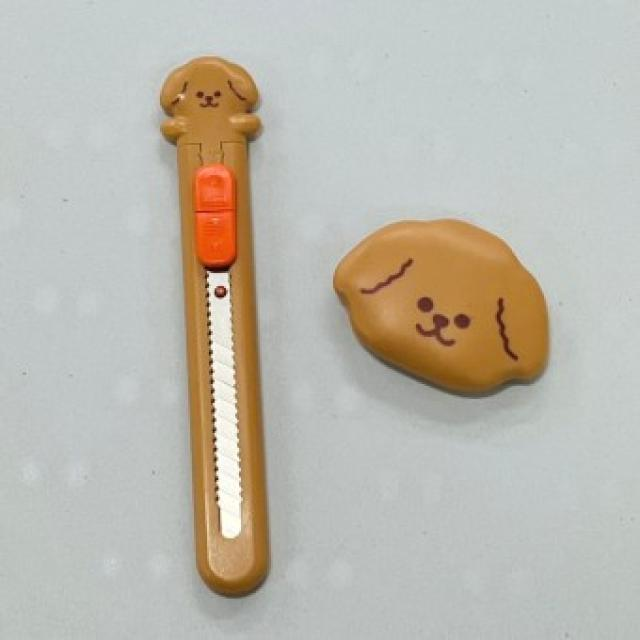cutter: (130, 45, 296, 609)
